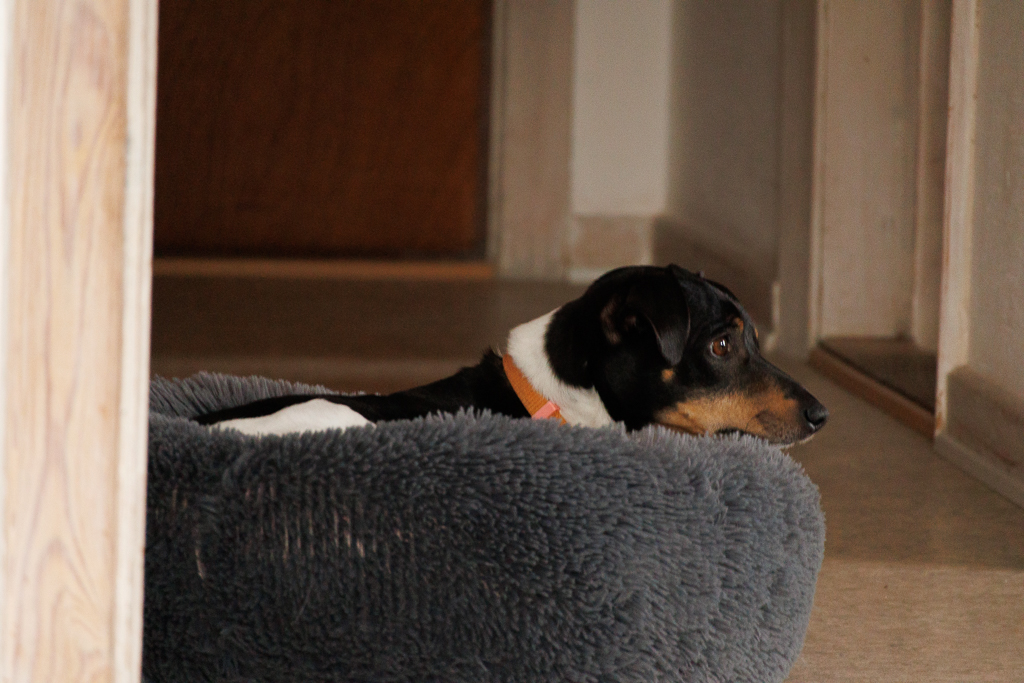Dog: (151, 242, 837, 465)
